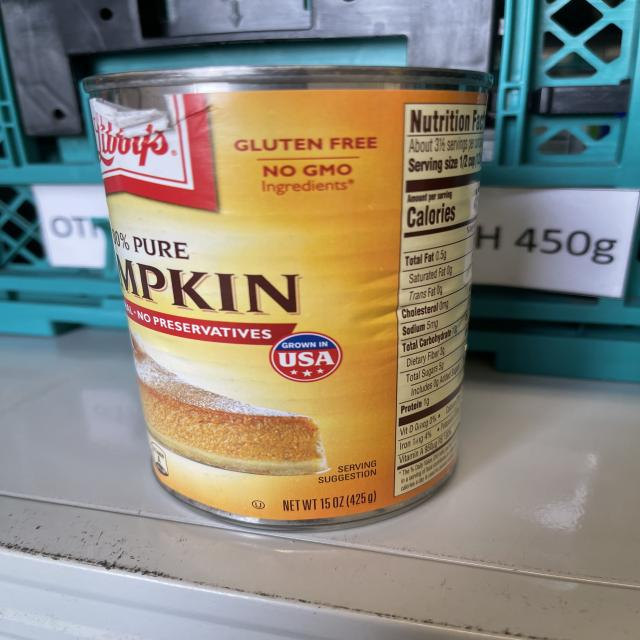object_name: (99, 83, 461, 502)
